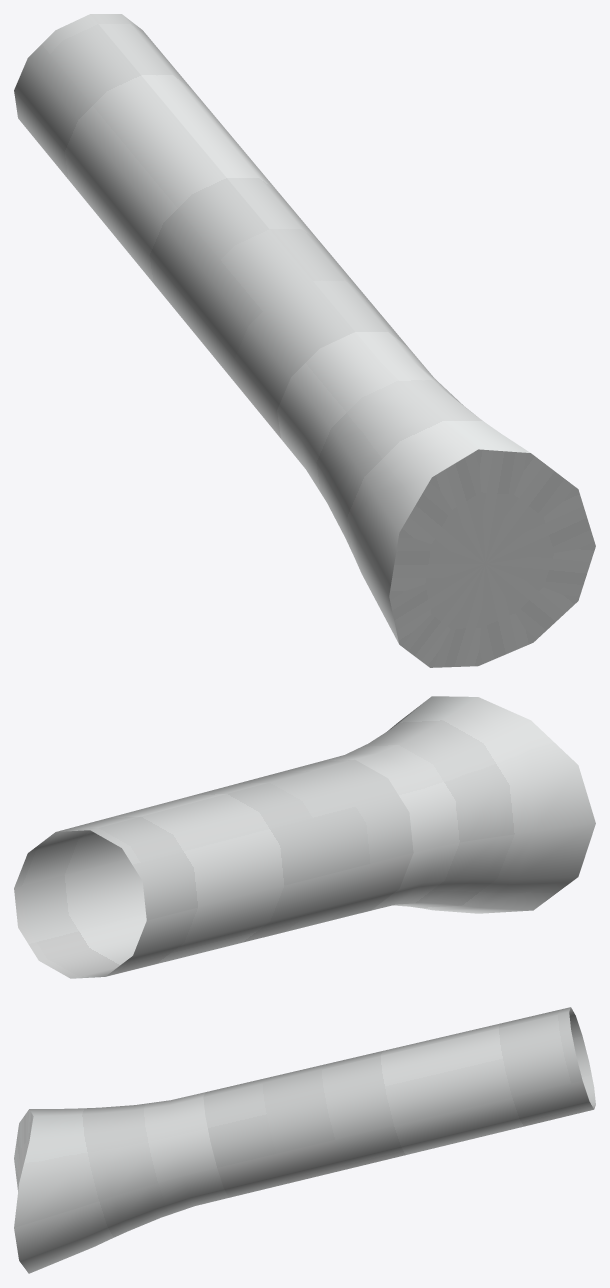
The model's file is luminairearm_caltrans15ftstraight_c0.obj.
3 views of the same model, one above another, from view 1: azimuth 30°, elevation 25°; view 2: azimuth 150°, elevation 25°; view 3: azimuth 270°, elevation 25° (orthographic). The views are drawn at different scales.
Parts seen in each view (by area): view 1: luminairearm_caltrans15ftstraight_c0; view 2: luminairearm_caltrans15ftstraight_c0; view 3: luminairearm_caltrans15ftstraight_c0.
Part boxes in pixels (box(x1,y1,x2,y2)): luminairearm_caltrans15ftstraight_c0: box(14, 14, 595, 667); luminairearm_caltrans15ftstraight_c0: box(14, 696, 595, 978); luminairearm_caltrans15ftstraight_c0: box(14, 1007, 595, 1273).
Bounding box in the file's own units: 0.3375 × 0.5736 × 1.19.
